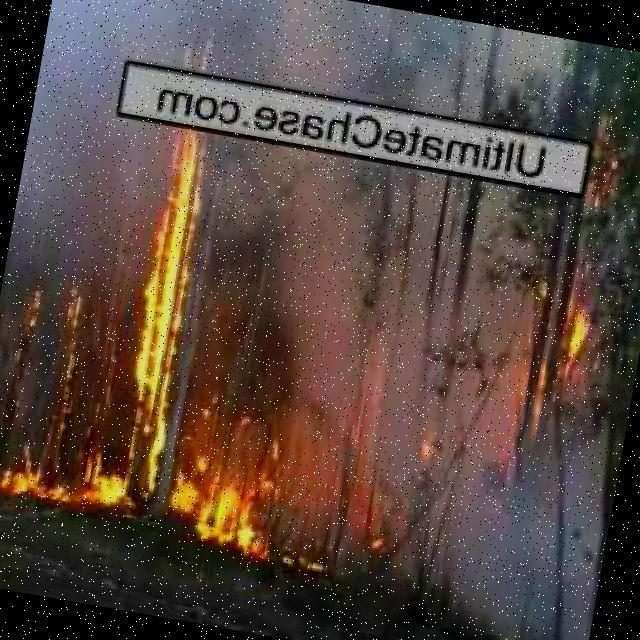Fire: (101, 49, 227, 510), (546, 105, 640, 384), (164, 417, 298, 563), (38, 290, 93, 429), (0, 433, 92, 509), (21, 298, 40, 336)
